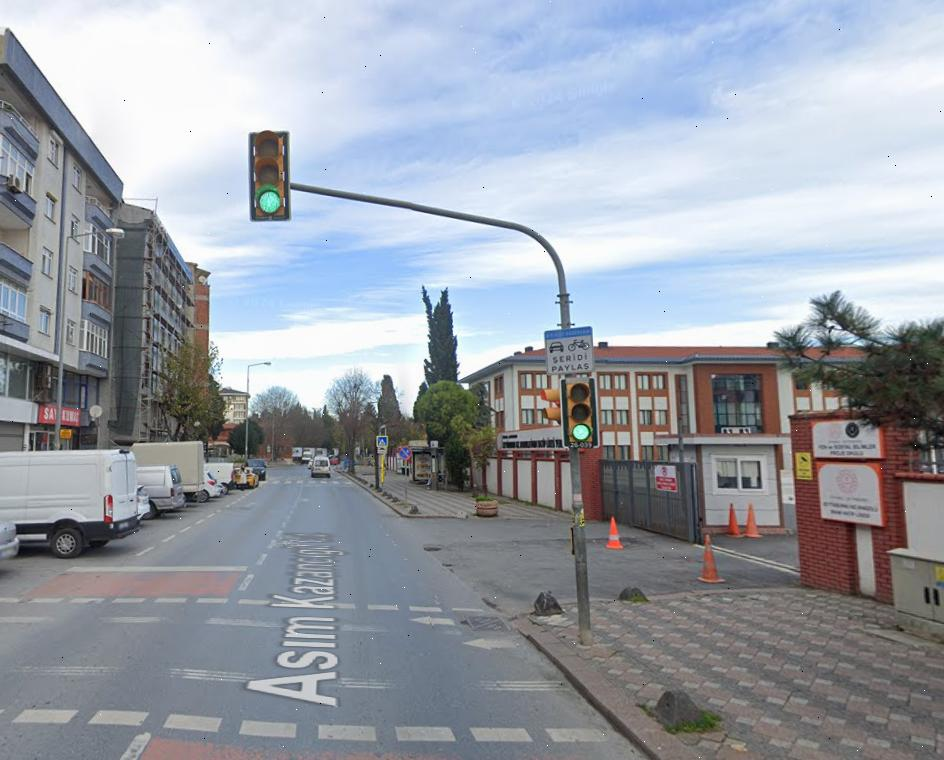greenlight: (252, 132, 292, 214), (563, 379, 600, 441)
